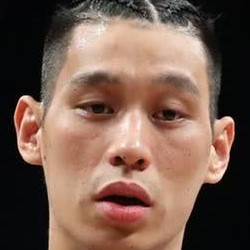unmask: (47, 46, 209, 250)
